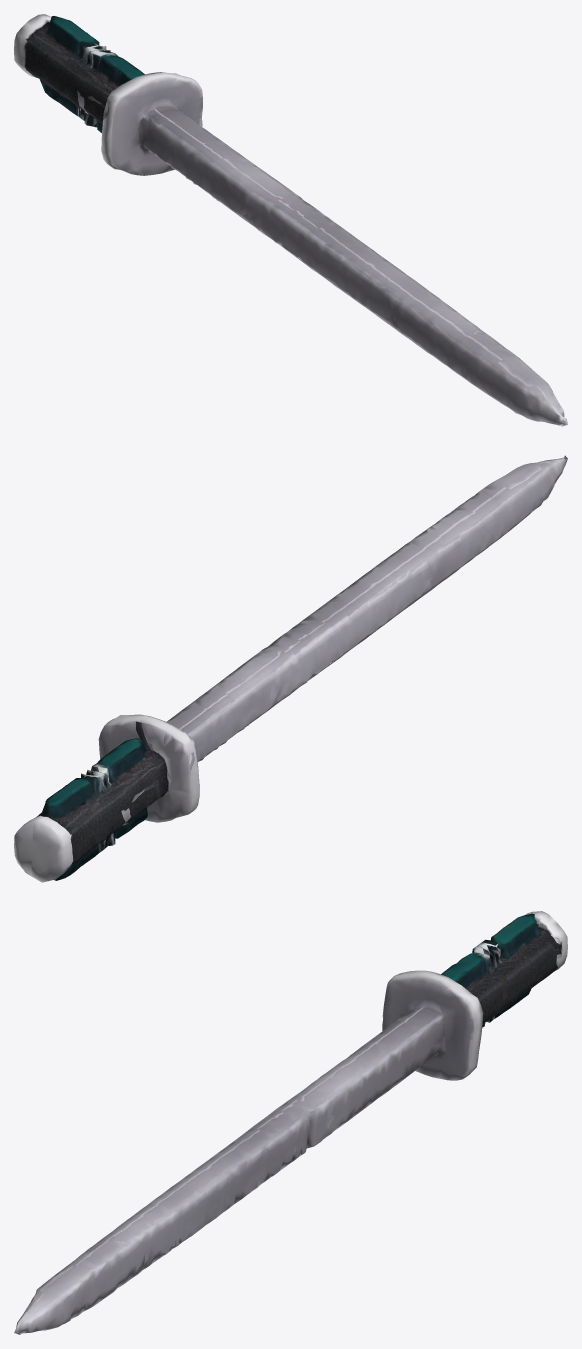
The model's file is w-sword.glb.
3 views of the same model, one above another, from view 1: azimuth 30°, elevation 25°; view 2: azimuth 150°, elevation 25°; view 3: azimuth 330°, elevation 25° (orthographic). The views are drawn at different scales.
Parts seen in each view (by area): view 1: weapon; view 2: weapon; view 3: weapon.
Part boxes in pixels (bbox=[...]): weapon: bbox=[14, 14, 567, 426]; weapon: bbox=[14, 455, 567, 882]; weapon: bbox=[14, 911, 567, 1334].
Size of the model in its own units: 0.1038 by 0.1033 by 0.9957.
Materials: 1 (1 with a texture image).
